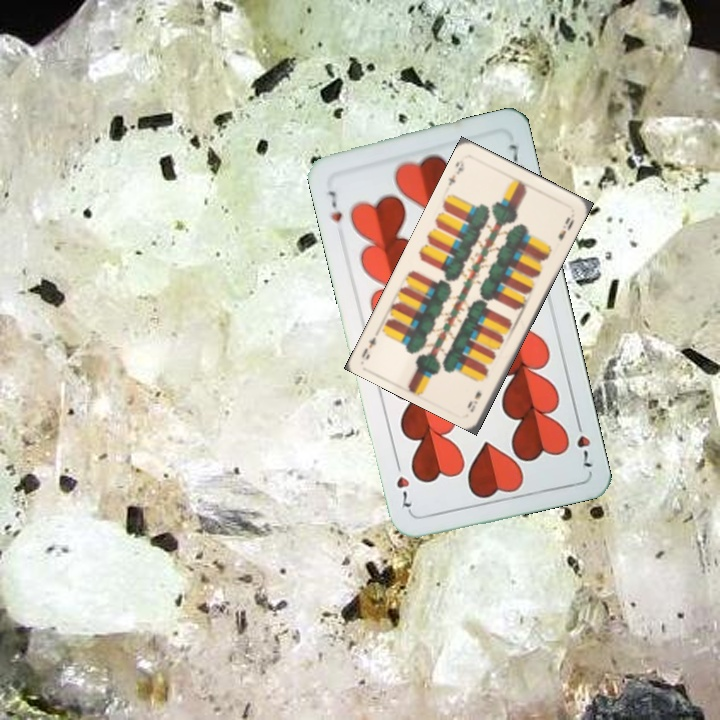E9: (444, 155, 467, 189), (464, 386, 484, 415)
H7: (572, 414, 595, 472), (324, 187, 345, 224)
